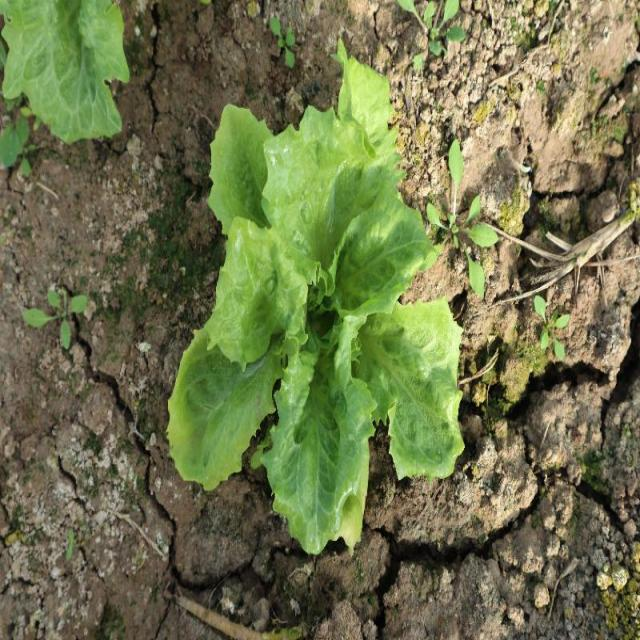crop: (167, 102, 462, 558)
